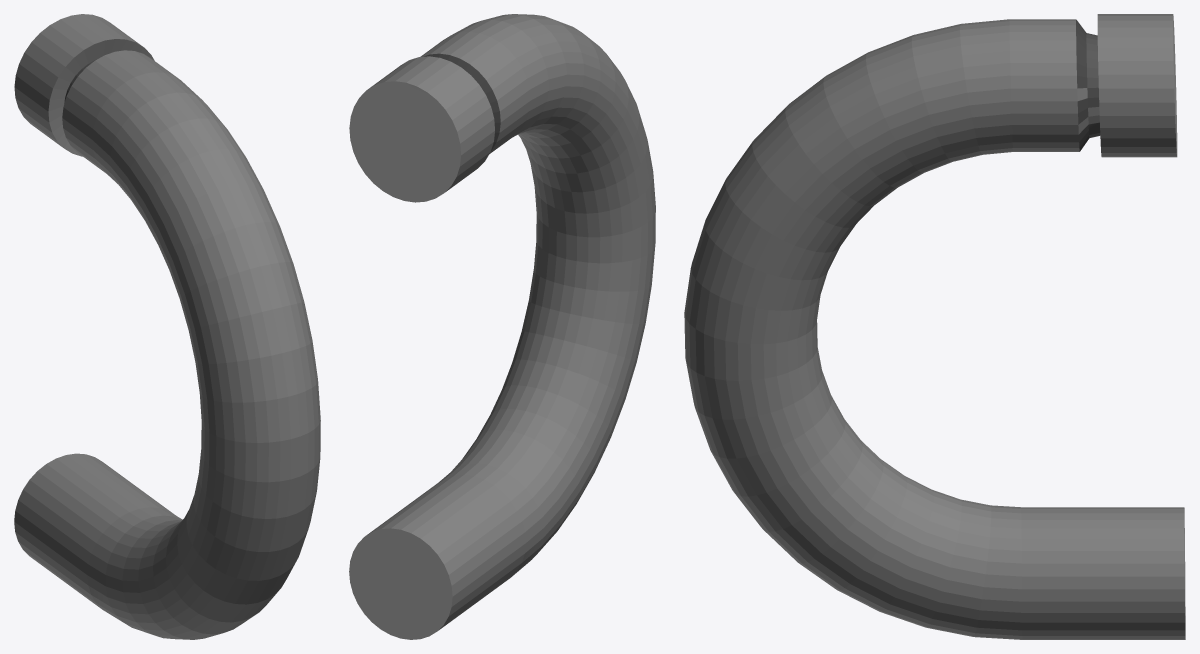
The model's file is Pipe3.fbx.
3 renders of one model, left to right at view 1: azimuth 30°, elevation 25°; view 2: azimuth 150°, elevation 25°; view 3: azimuth 270°, elevation 25°, orthographic. The views are drawn at different scales.
Visible parts, largest first — view 1: Pipe3; view 2: Pipe3; view 3: Pipe3.
Part boxes in pixels (x1,y1,x2,y2): Pipe3: (14, 14, 320, 639); Pipe3: (349, 14, 655, 639); Pipe3: (684, 14, 1185, 639).
Size of the model in its own units: 141 by 666 by 493.
